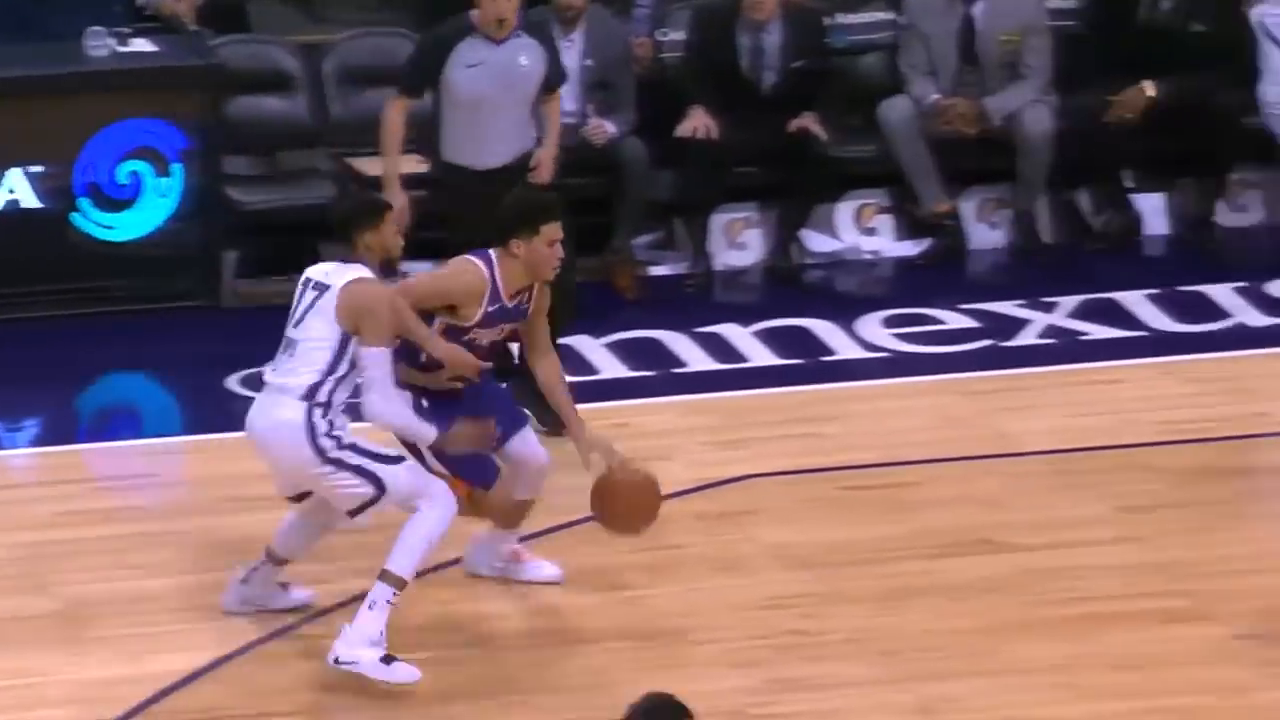ball: (596, 467, 662, 534)
